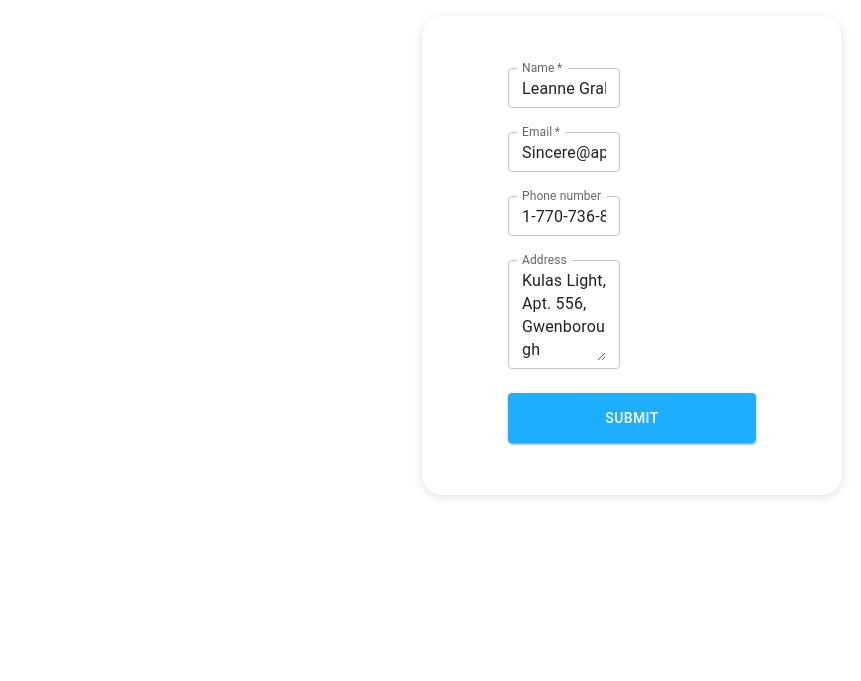
Integration tests for fetching, populating, and updating user data in the form component. › submits the form and displays success notification
Replace the text in the field labelled "Name *" with "Jane Doe" at (564, 88), box [508,68,620,108]
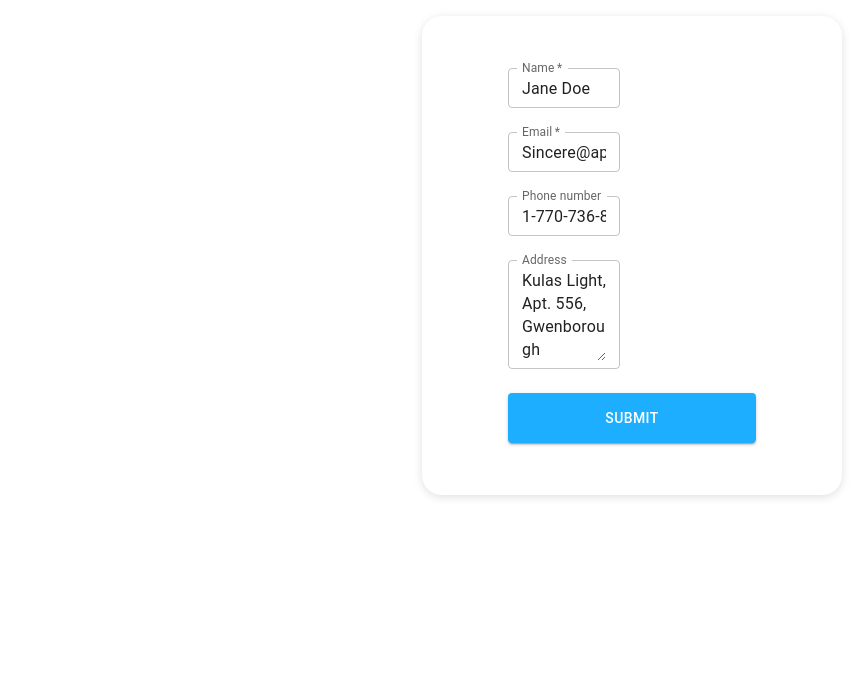
Replace the text in the field labelled "Email *" with "jane.doe@example.com" at (564, 152), box [508,132,620,172]
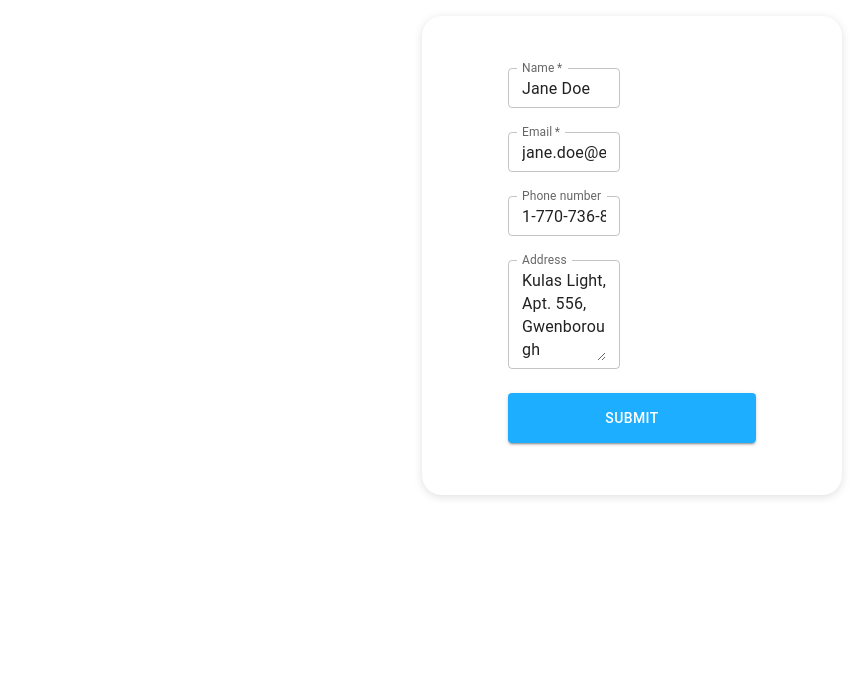
Submit the form with test id "form", box [422,16,842,495]
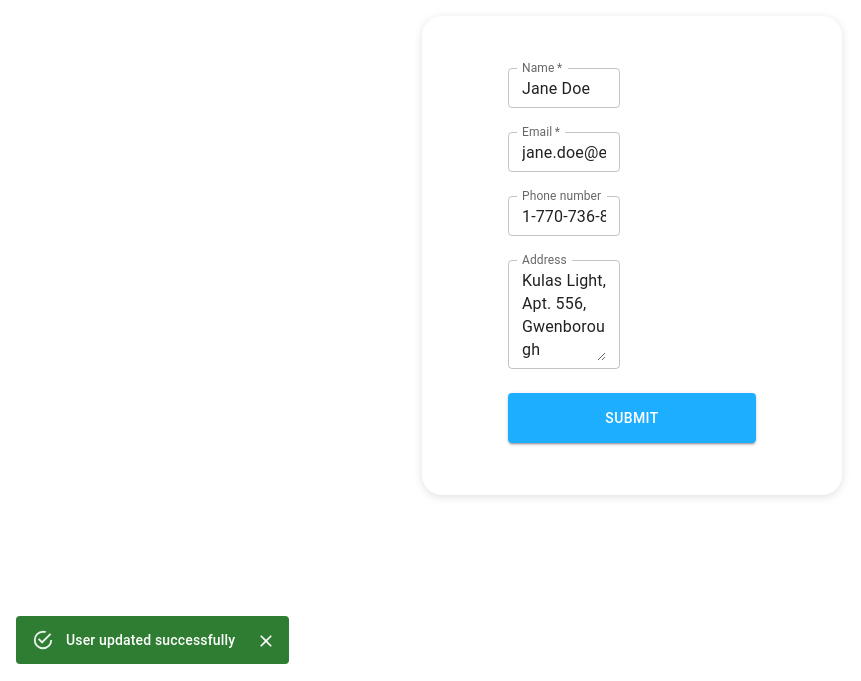
Check: the text "User updated successfully" is shown, box [66,632,235,648]
